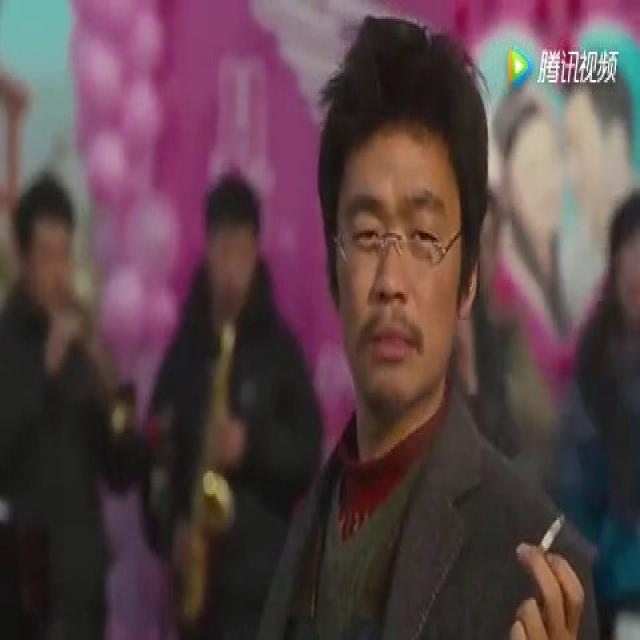cigarette: (542, 511, 568, 551)
